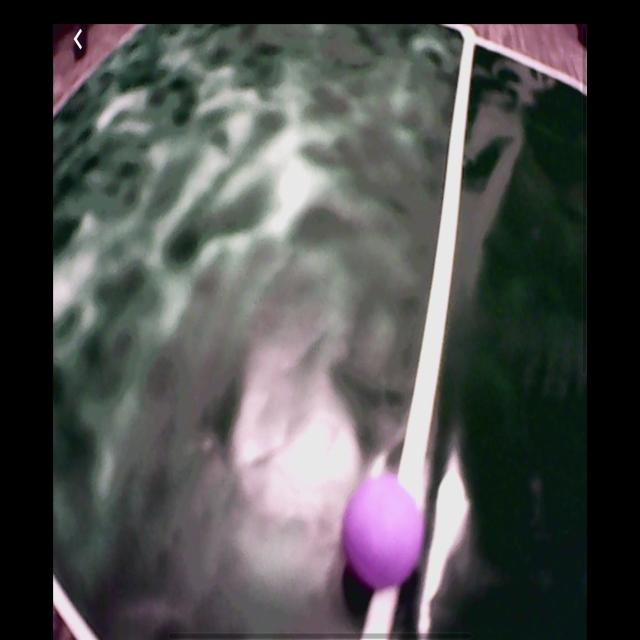ball: (344, 470, 425, 590)
